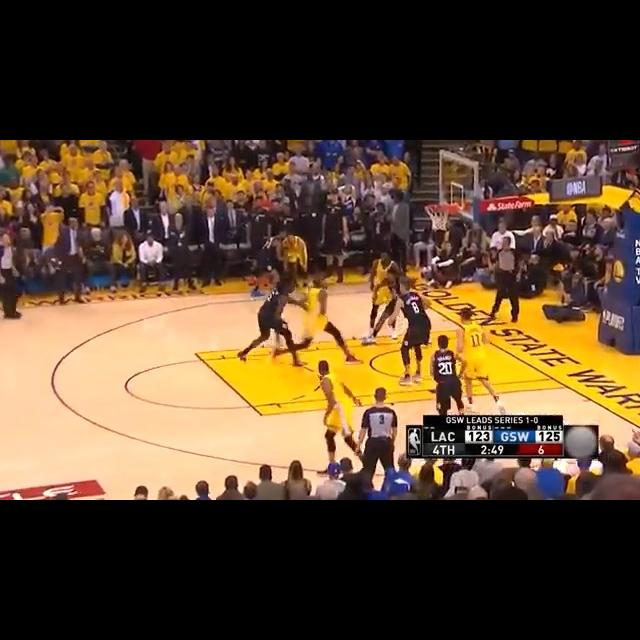hoop: (424, 202, 457, 233)
